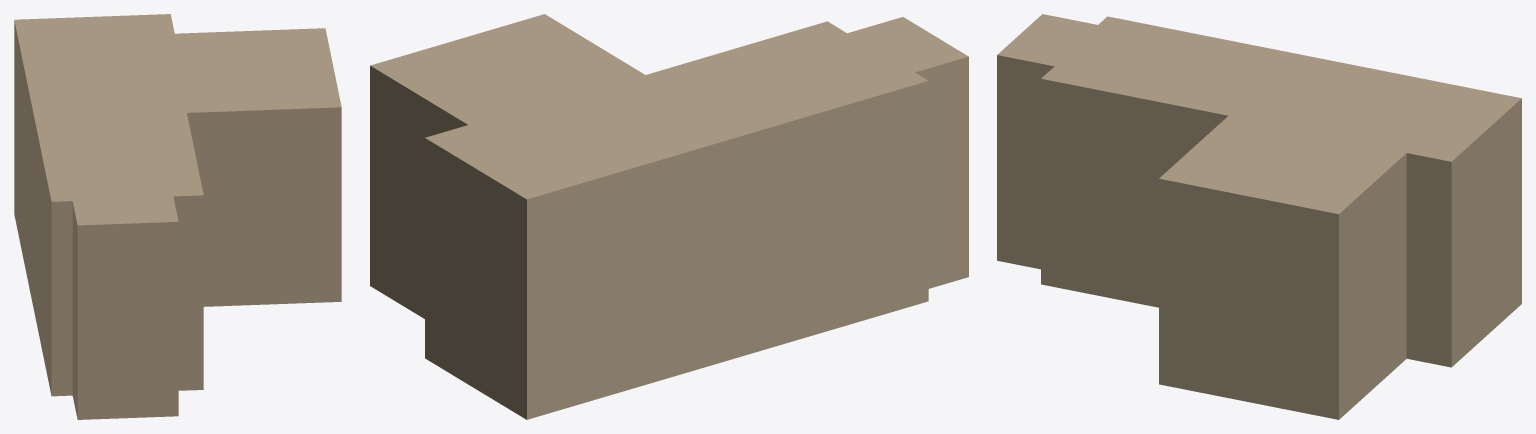
File: bld_99519895.dae
The picture shows the model from 3 angles, left to right: view 1: azimuth 30°, elevation 25°; view 2: azimuth 150°, elevation 25°; view 3: azimuth 270°, elevation 25°; orthographic projection. The views are drawn at different scales.
Visible parts, largest first — view 1: bld_99519895; view 2: bld_99519895; view 3: bld_99519895.
Boxes of the visible parts, x1,y1,x2,y2 form: bld_99519895: (14, 14, 341, 419); bld_99519895: (370, 14, 968, 419); bld_99519895: (997, 14, 1521, 419).
Size of the model in its own units: 16.7 by 18.49 by 8.
